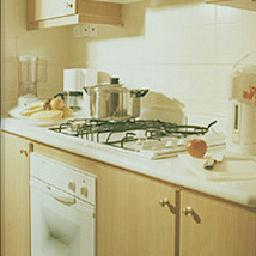Electrodomestico: (30, 151, 96, 255), (55, 116, 176, 147)
